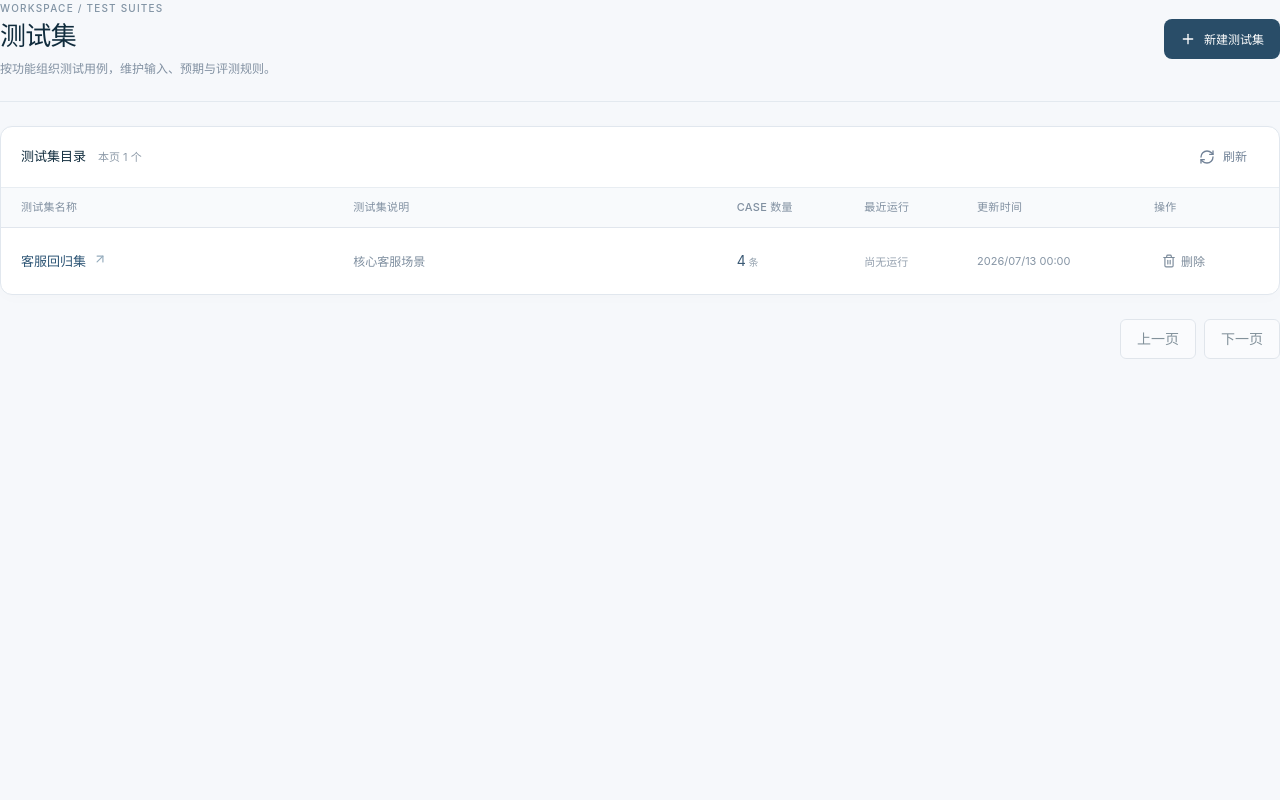
Test: 测试集列表页面 › 列表删除先确认影响，运行中保护=true
Click the button with aria-label "删除测试集 · 客服回归集". click: [1184, 261]
box: 1154,245 -> 1213,277
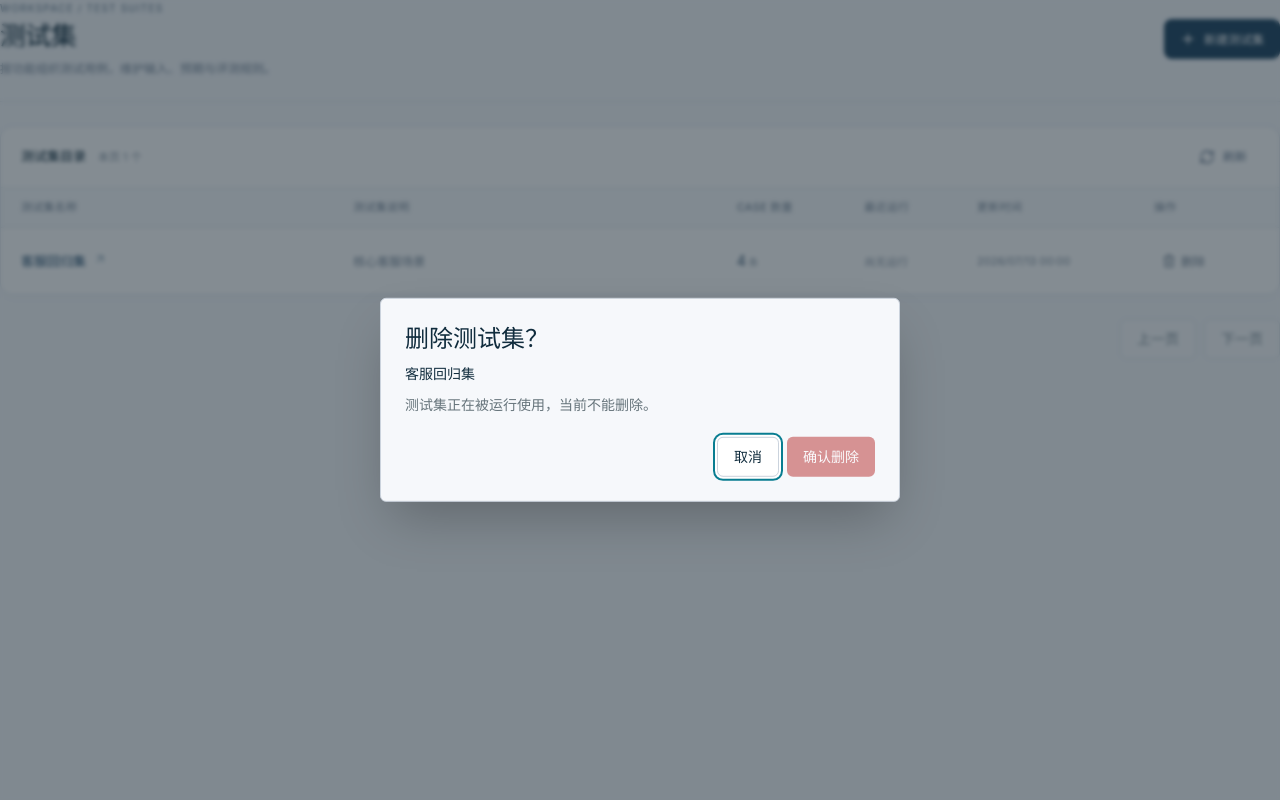
Expected: the dialog shows "客服回归集", 405,365 -> 475,382
Expected: the button "确认删除" is disabled, 787,437 -> 875,477
Click the button "取消". click: [748, 457]
box: 717,437 -> 779,477
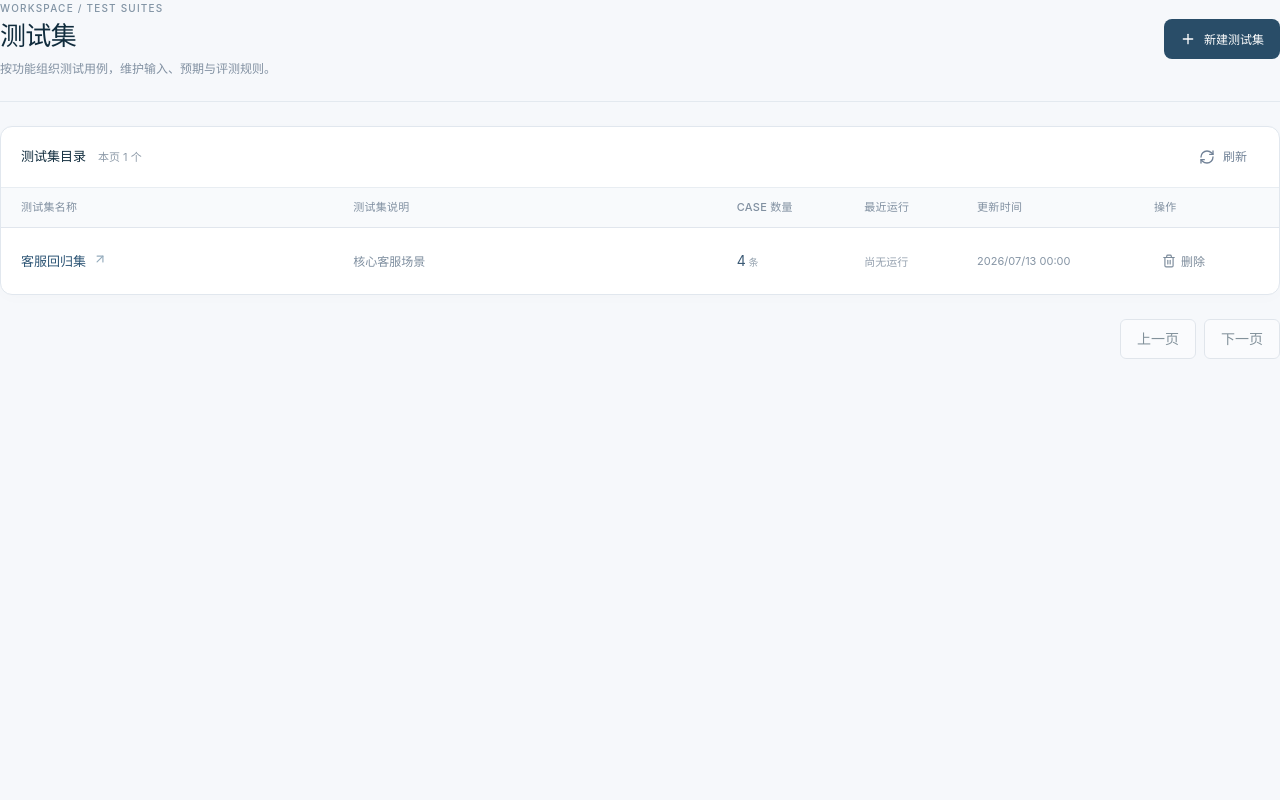
Expected: the dialog is gone
